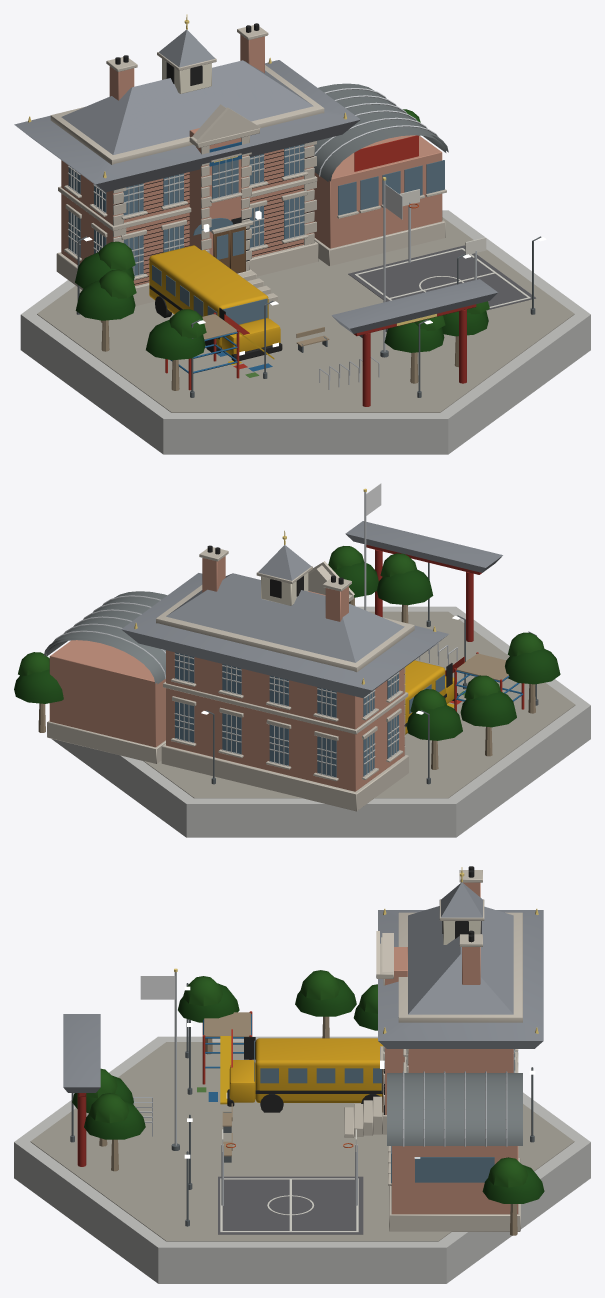
Rendered from school_asia.glb.
3 views of the same model, one above another, from view 1: azimuth 30°, elevation 25°; view 2: azimuth 150°, elevation 25°; view 3: azimuth 270°, elevation 25° (orthographic). The views are drawn at different scales.
Parts seen in each view (by area): view 1: pavers, wall_concrete, roof_slate, brick, stone, paint, glass, leaf, asphalt, dark, wood, metal (+2 smaller); view 2: wall_concrete, brick, roof_slate, stone, pavers, leaf, glass, paint, wood, metal, plaster, dark (+1 smaller); view 3: wall_concrete, pavers, roof_slate, paint, leaf, brick, stone, asphalt, glass, wood, metal, dark (+2 smaller).
Boxes of the visible parts, x1,y1,x2,y2 form: pavers: (37, 217, 574, 412); wall_concrete: (20, 83, 590, 454); roof_slate: (14, 29, 497, 333); brick: (61, 34, 442, 285); stone: (50, 25, 446, 306); paint: (149, 135, 530, 406); glass: (68, 144, 444, 324); leaf: (75, 109, 489, 360); asphalt: (348, 245, 535, 310); dark: (113, 23, 313, 361); wood: (100, 226, 458, 390); metal: (314, 88, 476, 389); wall_concrete: (43, 591, 590, 837); brick: (49, 556, 404, 791); roof_slate: (121, 521, 502, 697); stone: (47, 547, 414, 811); pavers: (143, 611, 575, 798); leaf: (14, 546, 560, 740); glass: (175, 652, 444, 777); paint: (366, 544, 524, 734); wood: (38, 597, 535, 769); metal: (52, 492, 457, 679); plaster: (261, 573, 308, 605); dark: (207, 545, 458, 726); wall_concrete: (14, 1036, 590, 1283); pavers: (30, 1042, 574, 1241); roof_slate: (63, 882, 543, 1092); paint: (77, 1011, 382, 1232); leaf: (72, 970, 544, 1203); brick: (384, 882, 518, 1214); stone: (344, 870, 522, 1231); asphalt: (218, 1176, 363, 1234); glass: (254, 1040, 514, 1183); wood: (99, 1012, 517, 1235); metal: (133, 972, 507, 1205); dark: (227, 866, 481, 1114).
Bounding box in the file's own units: 21.48 × 13.7 × 24.6.
